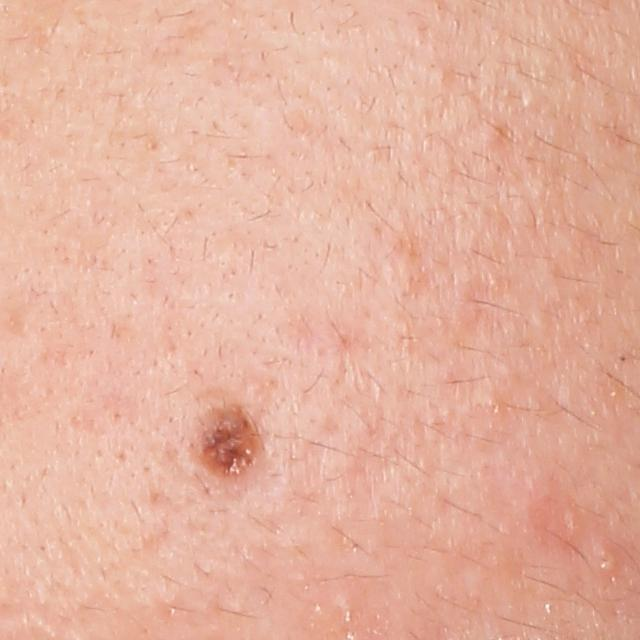comedo: (593, 541, 623, 577), (473, 121, 506, 147), (514, 86, 540, 112)
nevus: (184, 396, 267, 491)
